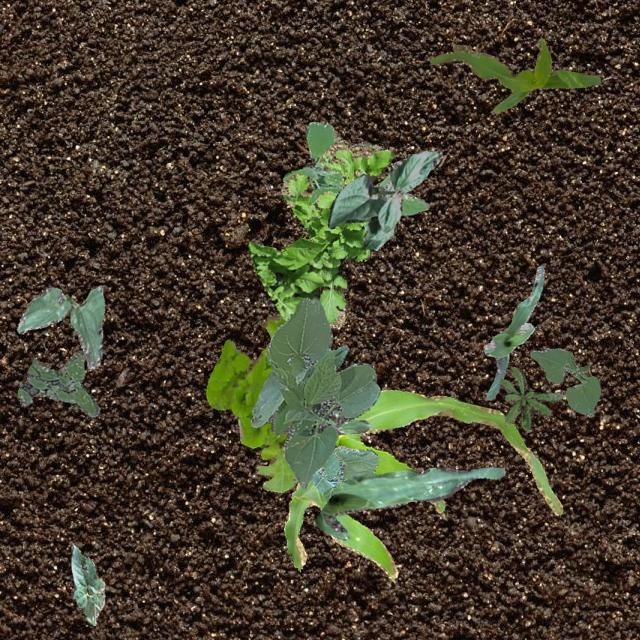crop: (283, 388, 562, 582), (250, 296, 378, 488), (314, 466, 503, 538), (430, 36, 600, 112), (326, 148, 442, 250), (482, 264, 544, 398), (15, 286, 104, 368), (528, 346, 600, 416), (308, 444, 378, 500), (70, 544, 104, 624)
weed: (246, 138, 394, 326), (205, 314, 296, 492), (282, 120, 428, 230), (17, 348, 98, 416), (498, 366, 562, 430), (324, 408, 369, 433)
